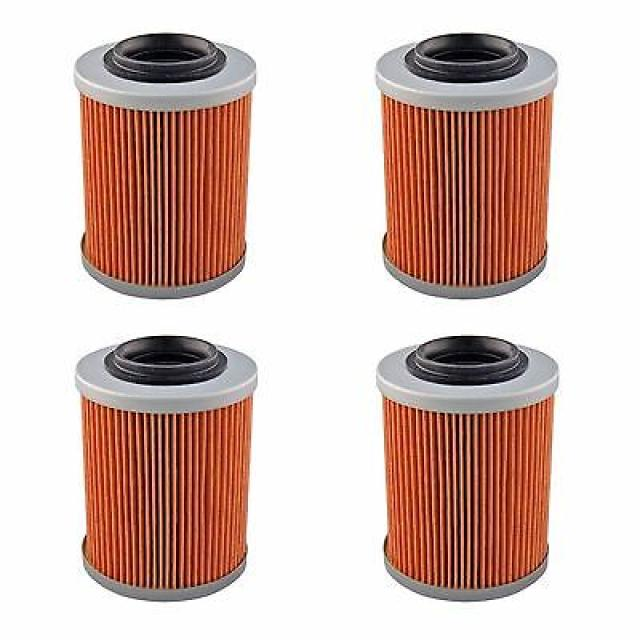oil_filter: (363, 325, 562, 608), (74, 320, 266, 609), (368, 23, 561, 303), (66, 28, 255, 302)
